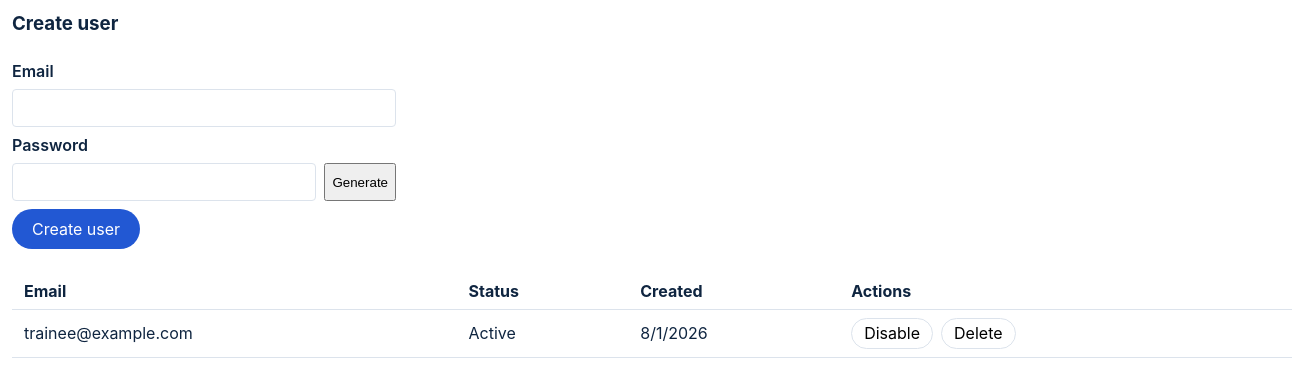
Test: AdminUsers › deletes a user after confirmation
The width and height of the screenshot is (1292, 375).
Expected: the text "trainee@example.com" is shown, [12, 309, 456, 358]
What coordinates should you click on to do the following:
click the button "Delete"
I would click on:
 (978, 333)
Its box is [941, 318, 1016, 349].
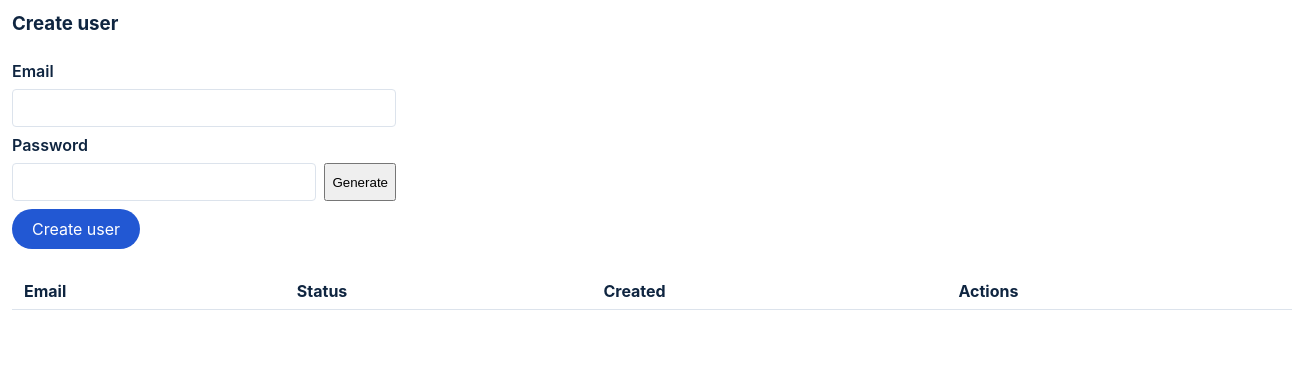
Now the text "trainee@example.com" is gone
